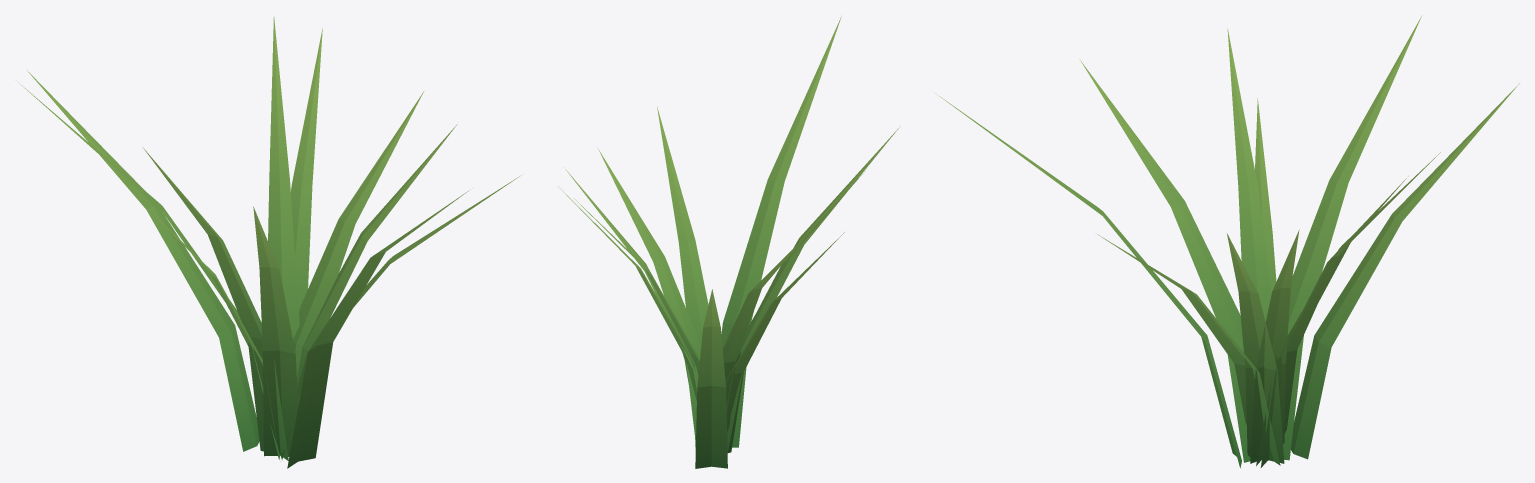
File: env_grass_tuft.glb
The picture shows the model from 3 angles, left to right: view 1: azimuth 30°, elevation 25°; view 2: azimuth 150°, elevation 25°; view 3: azimuth 270°, elevation 25°; orthographic projection. The views are drawn at different scales.
Visible parts, largest first — view 1: env_grass_tuft; view 2: env_grass_tuft; view 3: env_grass_tuft.
Boxes of the visible parts, box(x1,y1,x2,y2) form: env_grass_tuft: box(18, 16, 521, 468); env_grass_tuft: box(558, 16, 900, 468); env_grass_tuft: box(935, 16, 1519, 468).
Bounding box in the file's own units: 0.5724 × 0.6083 × 0.8578.
